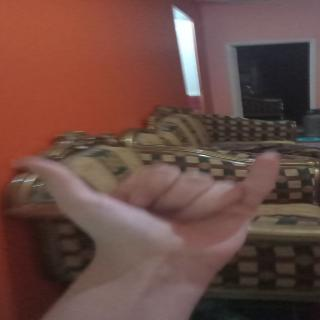YA: (6, 142, 296, 250)
